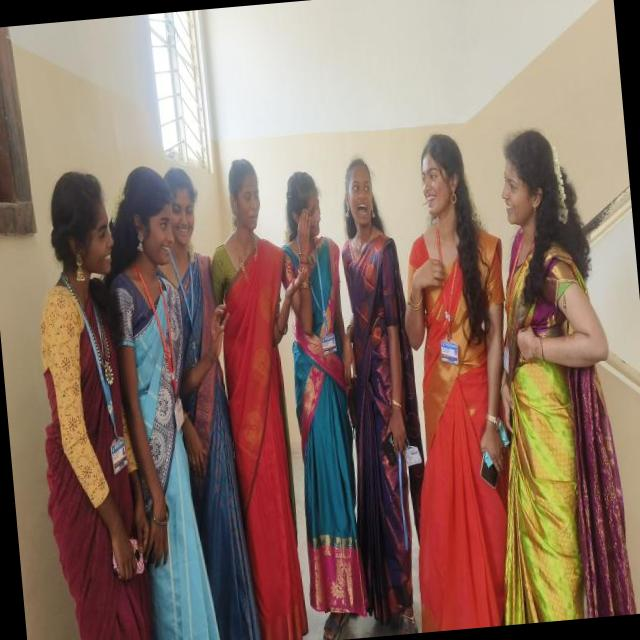id_card: (69, 272, 130, 470), (136, 264, 187, 429), (490, 230, 540, 370), (422, 225, 471, 362), (299, 234, 337, 356), (178, 257, 205, 366)
